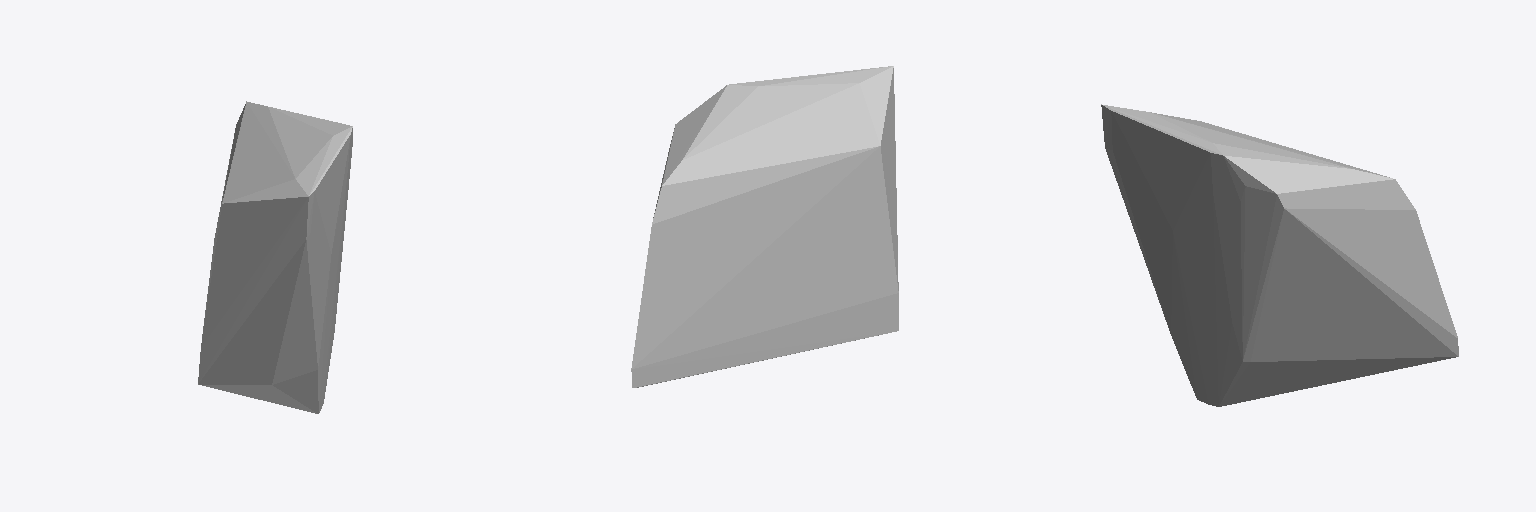
Rendered from trash_bin_collision_4.obj.
The picture shows the model from 3 angles: view 1: azimuth 30°, elevation 25°; view 2: azimuth 150°, elevation 25°; view 3: azimuth 270°, elevation 25°; orthographic projection.
Size of the model in its own units: 0.0378 by 0.0513 by 0.0619.